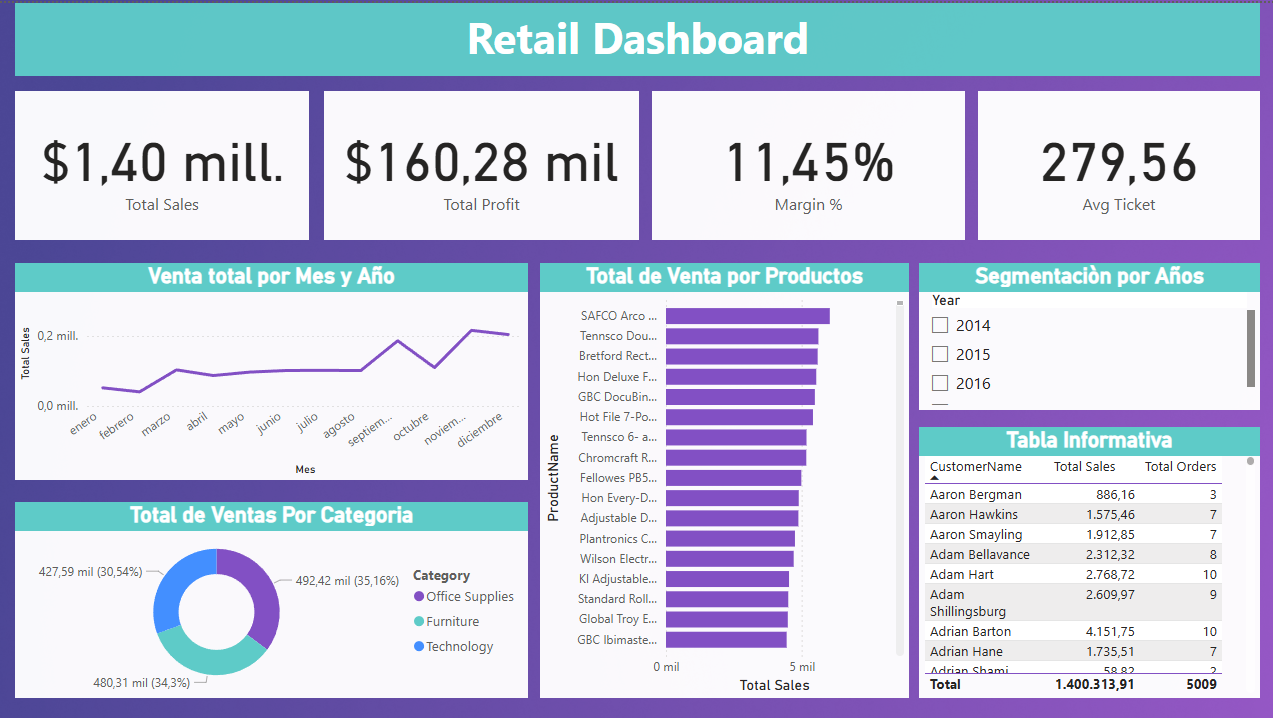

The page's visual inventory and layout, read from the dashboard file:
{"tool":"powerbi","page":{"name":"Página 1","canvas":[1280,720],"ordinal":0},"visuals":[{"type":"card","fields":{"Values":["superstore_clean.Total Sales"]},"box":[16,88,294,149],"z":0},{"type":"card","fields":{"Values":["superstore_clean.Total Profit"]},"box":[325,88,315,149],"z":1000},{"type":"card","fields":{"Values":["superstore_clean.Margin %"]},"box":[653,88,313,149],"z":2000},{"type":"card","fields":{"Values":["superstore_clean.Avg Ticket"]},"box":[979,88,282,149],"z":3000},{"type":"lineChart","title":"Venta total por Mes y Año","fields":{"Y":["superstore_clean.Total Sales"],"Category":["superstore_clean.OrderDate.Variación.Jerarquía de fechas.Año","superstore_clean.OrderDate.Variación.Jerarquía de fechas.Mes"]},"box":[16,260,513,217],"z":4000},{"type":"barChart","title":"Total de Venta por Productos","fields":{"Category":["superstore_clean.ProductName"],"Y":["superstore_clean.Total Sales"]},"box":[541,260,369,435],"z":5000},{"type":"tableEx","title":"Tabla Informativa","fields":{"Values":["superstore_clean.CustomerName","superstore_clean.Total Sales","superstore_clean.Total Orders"]},"box":[920,424,341,271],"z":6000},{"type":"donutChart","title":"Total de Ventas Por Categoria","fields":{"Category":["superstore_clean.Category"],"Y":["superstore_clean.Total Sales"]},"box":[16,499,513,196],"z":7000},{"type":"textbox","box":[16,0,1245,73],"z":8000},{"type":"slicer","title":"Segmentaciòn por Años","fields":{"Values":["superstore_clean.Year"]},"box":[920,260,341,147],"z":9000}]}

Visuals, with their boxes in screenshot pixels (x1, y1, x2, y2), scaled from the page's 1280x720 canvas onto the 1273x718 screenshot:
card - superstore_clean.Total Sales: l=16, t=88, r=308, b=236
card - superstore_clean.Total Profit: l=323, t=88, r=636, b=236
card - superstore_clean.Margin %: l=649, t=88, r=961, b=236
card - superstore_clean.Avg Ticket: l=974, t=88, r=1254, b=236
"Venta total por Mes y Año" lineChart: l=16, t=259, r=526, b=476
"Total de Venta por Productos" barChart: l=538, t=259, r=905, b=693
"Tabla Informativa" tableEx: l=915, t=423, r=1254, b=693
"Total de Ventas Por Categoria" donutChart: l=16, t=498, r=526, b=693
textbox: l=16, t=0, r=1254, b=73
"Segmentaciòn por Años" slicer: l=915, t=259, r=1254, b=406
